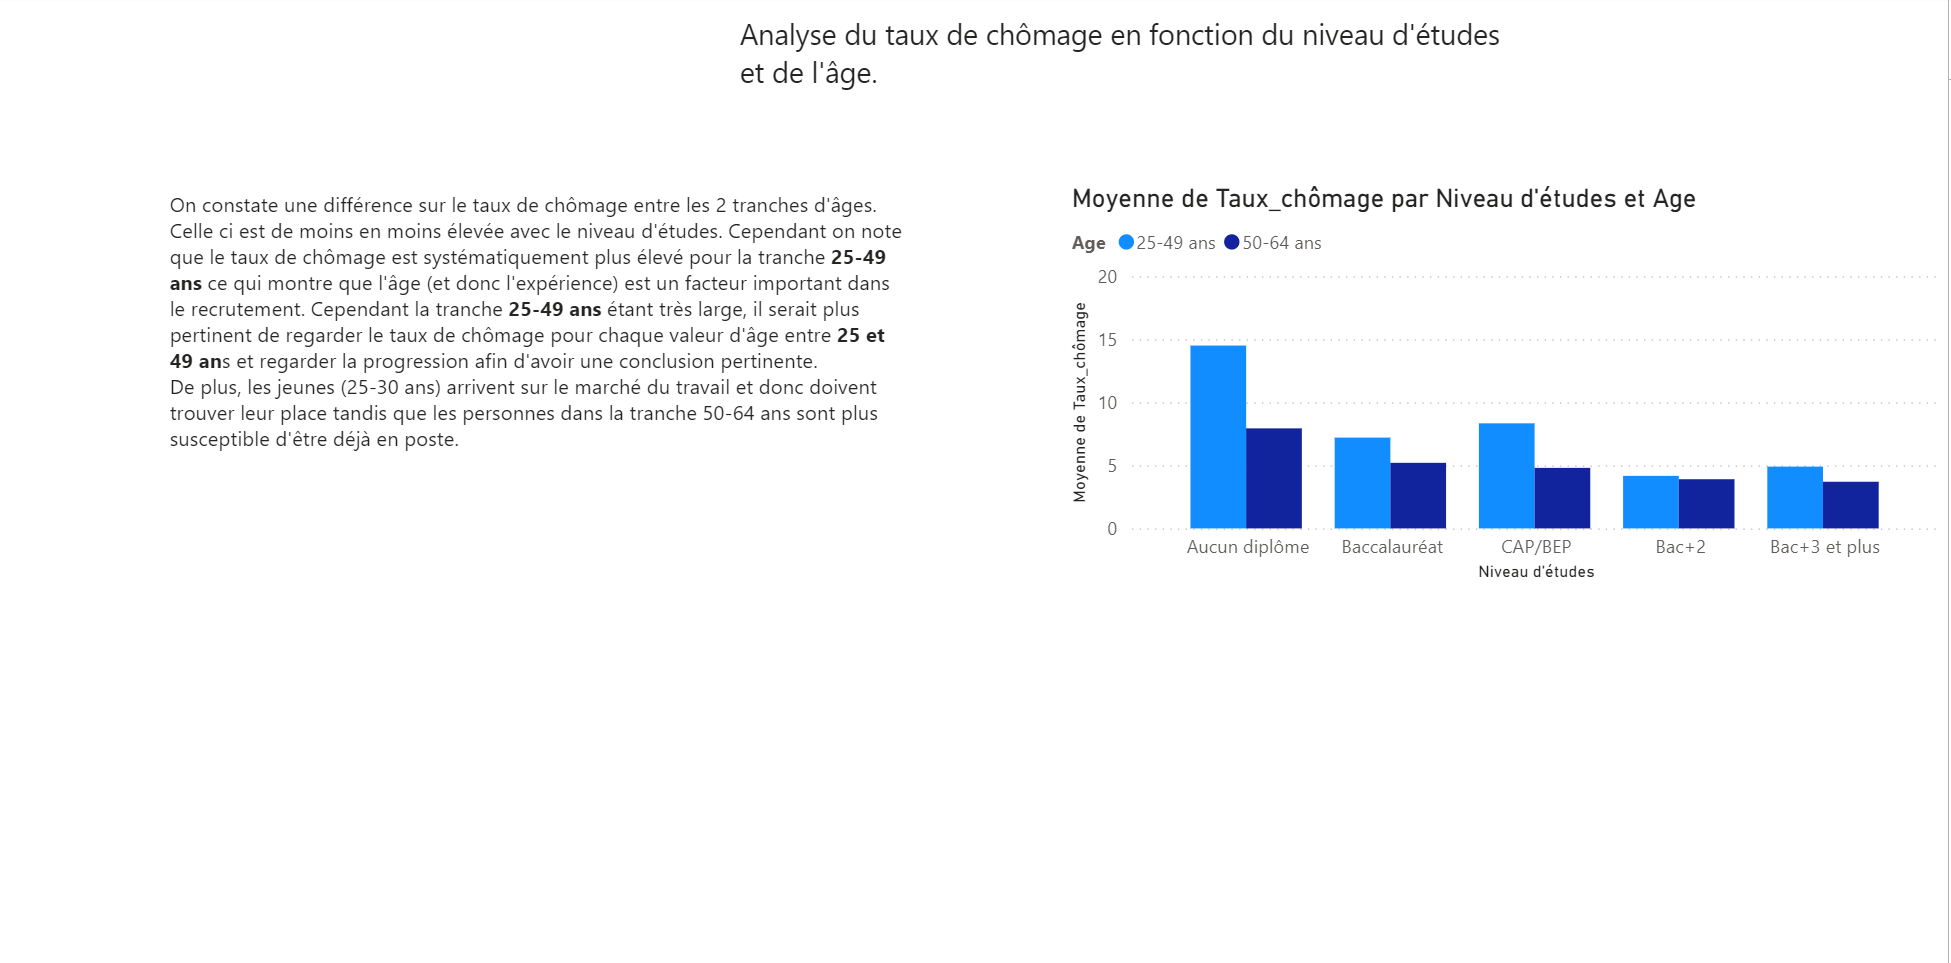

Layout of this report page (visuals, bound fields, positions):
{"tool":"powerbi","page":{"name":"Page 2","canvas":[1280,720],"ordinal":1},"visuals":[{"type":"lineClusteredColumnComboChart","fields":{"Category":["Taux_chômage_2024_âge_education.EDUC_LABEL"],"Series":["Taux_chômage_2024_âge_education.AGE_LABEL"],"Y":["Avg(Taux_chômage_2024_âge_education.Taux_chômage)"]},"box":[701.5,122.4,578.5,265],"z":0},{"type":"textbox","box":[484.3,7.2,522.9,66.7],"z":1000},{"type":"textbox","box":[111.2,122.4,490.1,280.1],"z":2000}]}

Visuals, with their boxes on the page's 1280x720 design canvas (x1, y1, x2, y2). These are canvas units, not pixel positions in the 1951x963 screenshot, which may show the page scaled, cropped or inside an application window:
lineClusteredColumnComboChart - Taux_chômage_2024_âge_education.EDUC_LABEL x Taux_chômage_2024_âge_education.AGE_LABEL: crop(702, 122, 1280, 387)
textbox: crop(484, 7, 1007, 74)
textbox: crop(111, 122, 601, 402)
